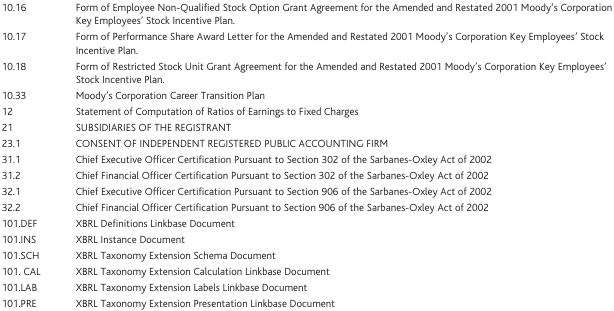table: (0, 0, 611, 308)
table column: (57, 0, 611, 308), (0, 0, 57, 308)
table row: (0, 28, 611, 57), (0, 57, 611, 86), (0, 0, 611, 28), (0, 86, 611, 102), (0, 102, 611, 118), (0, 118, 611, 134), (0, 134, 611, 150), (0, 150, 611, 166), (0, 166, 611, 182), (0, 182, 611, 198), (0, 198, 611, 214), (0, 214, 611, 230), (0, 230, 611, 246), (0, 246, 611, 262), (0, 262, 611, 278), (0, 278, 611, 294), (0, 294, 611, 308)
